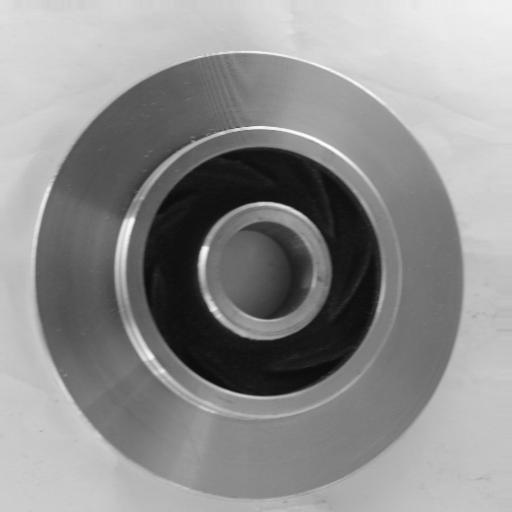polished_casting: (33, 47, 465, 501)
